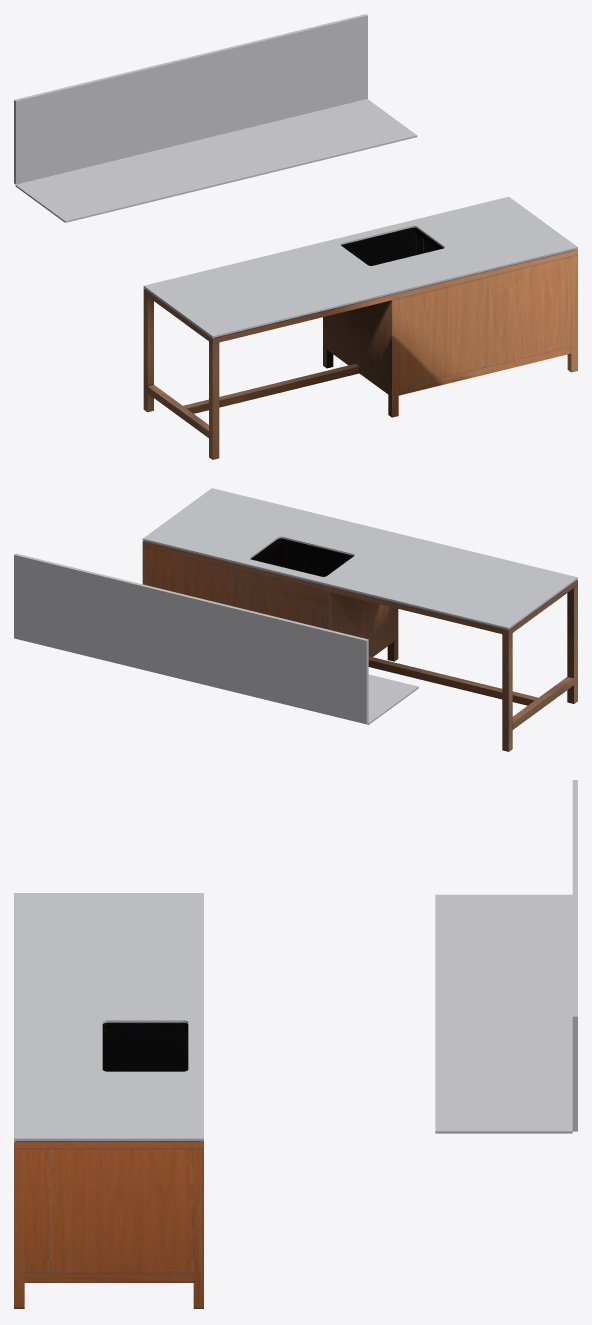
Rendered from Counter_Top_Steel.glb.
The picture shows the model from 3 angles, top to bottom: view 1: azimuth 30°, elevation 25°; view 2: azimuth 150°, elevation 25°; view 3: azimuth 270°, elevation 25°; orthographic projection. The views are drawn at different scales.
Parts seen in each view (by area): view 1: Table.002, Alumininum_Kitchen_Backsplash.002, object_91.002; view 2: Table.002, Alumininum_Kitchen_Backsplash.002, object_91.002; view 3: Table.002, object_91.002, Alumininum_Kitchen_Backsplash.002.
Part boxes in pixels (x1=…): Table.002: x1=143, y1=196, x2=577, y2=459; Alumininum_Kitchen_Backsplash.002: x1=14, y1=14, x2=367, y2=184; object_91.002: x1=15, y1=99, x2=417, y2=222; Table.002: x1=142, y1=488, x2=577, y2=751; Alumininum_Kitchen_Backsplash.002: x1=14, y1=553, x2=368, y2=724; object_91.002: x1=367, y1=674, x2=418, y2=724; Table.002: x1=14, y1=893, x2=203, y2=1308; object_91.002: x1=435, y1=894, x2=572, y2=1133; Alumininum_Kitchen_Backsplash.002: x1=572, y1=780, x2=577, y2=1131.
Size of the model in its own units: 1.1 by 0.6046 by 1.07.
3 materials, 1 textured.
